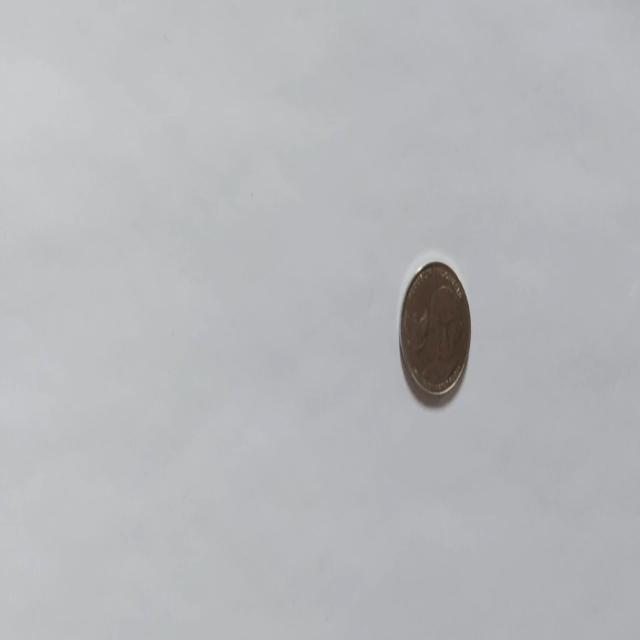seribu rupiah koin: (398, 257, 472, 403)
